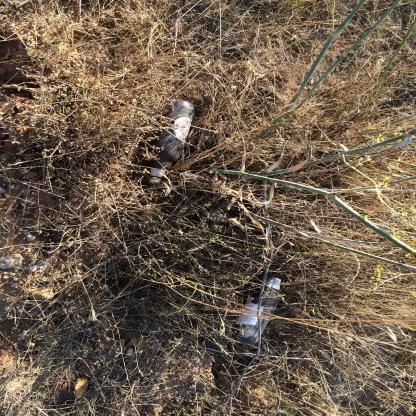cam: (149, 101, 197, 186), (232, 275, 285, 346)
